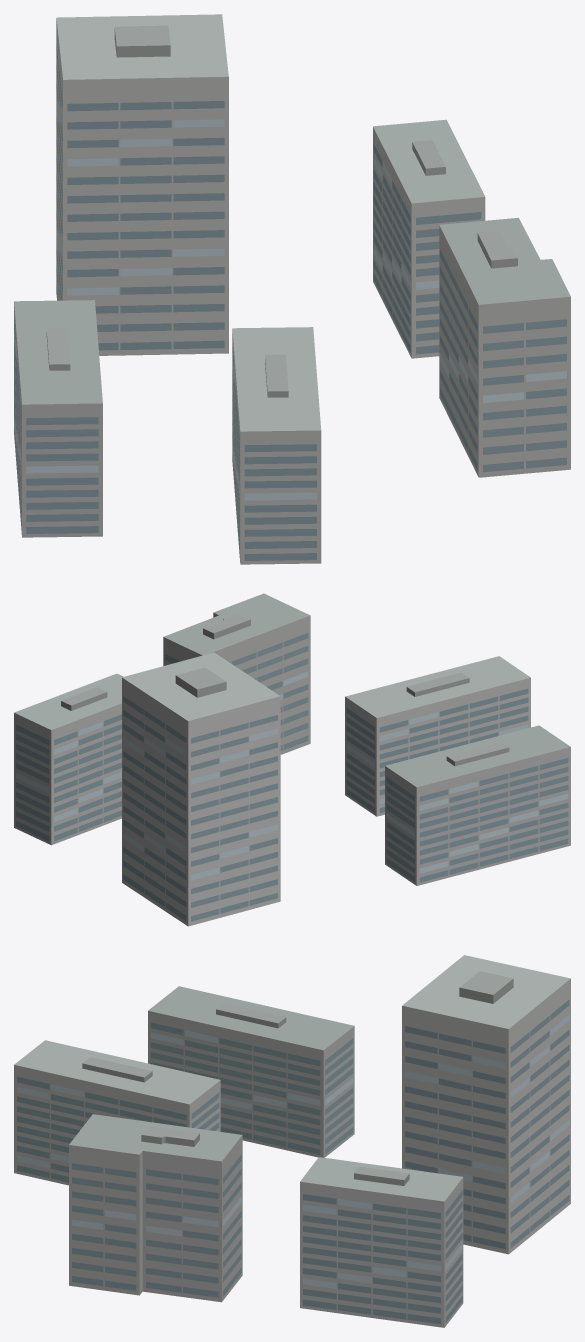
File: apt-a14375302.glb
3 renders of one model, top to bottom at view 1: azimuth 30°, elevation 25°; view 2: azimuth 150°, elevation 25°; view 3: azimuth 270°, elevation 25°, orthographic. The views are drawn at different scales.
Parts seen in each view (by area): view 1: apt-a14375302; view 2: apt-a14375302; view 3: apt-a14375302.
Boxes of the visible parts, x1=… form: apt-a14375302: x1=14, y1=14, x2=570, y2=564; apt-a14375302: x1=14, y1=593, x2=570, y2=926; apt-a14375302: x1=14, y1=955, x2=570, y2=1327.
Bounding box in the file's own units: 132 × 62 × 134.
